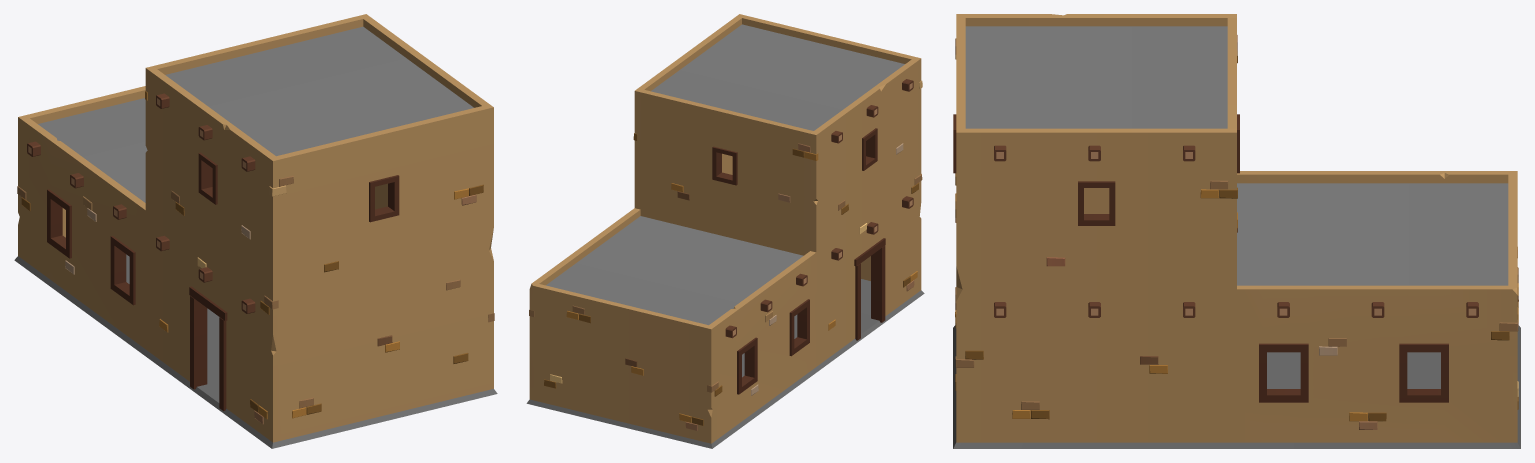
File: shack_tall_wide_right.glb
3 views of the same model, side by side, from view 1: azimuth 30°, elevation 25°; view 2: azimuth 150°, elevation 25°; view 3: azimuth 270°, elevation 25° (orthographic). The views are drawn at different scales.
Parts seen in each view (by area): view 1: Shack_Tall_Wide_Right-col; view 2: Shack_Tall_Wide_Right-col; view 3: Shack_Tall_Wide_Right-col.
Part boxes in pixels (bbox=[...]): Shack_Tall_Wide_Right-col: bbox=[14, 14, 497, 448]; Shack_Tall_Wide_Right-col: bbox=[526, 14, 924, 448]; Shack_Tall_Wide_Right-col: bbox=[953, 14, 1520, 448].
Size of the model in its own units: 6.44 by 7.43 by 12.14.
Materials: 1 (1 with a texture image).
